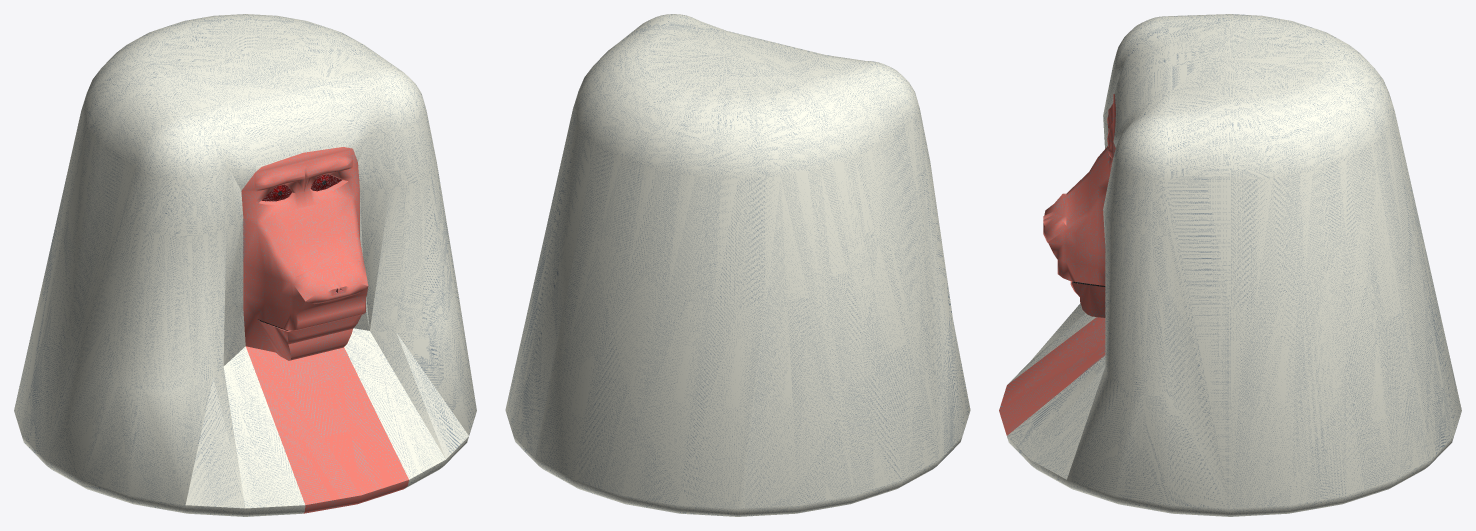
The model's file is baboon head.dae.
3 views of the same model, side by side, from view 1: azimuth 30°, elevation 25°; view 2: azimuth 150°, elevation 25°; view 3: azimuth 270°, elevation 25° (orthographic).
Parts seen in each view (by area): view 1: group_0 (×2); view 2: group_0; view 3: group_0 (×2).
Boxes of the visible parts, box(x1,y1,x2,y2) form: group_0 (×2): box(14, 14, 476, 516); group_0: box(505, 14, 970, 516); group_0 (×2): box(999, 14, 1461, 516).
Bounding box in the file's own units: 47.24 × 47.24 × 41.06.
